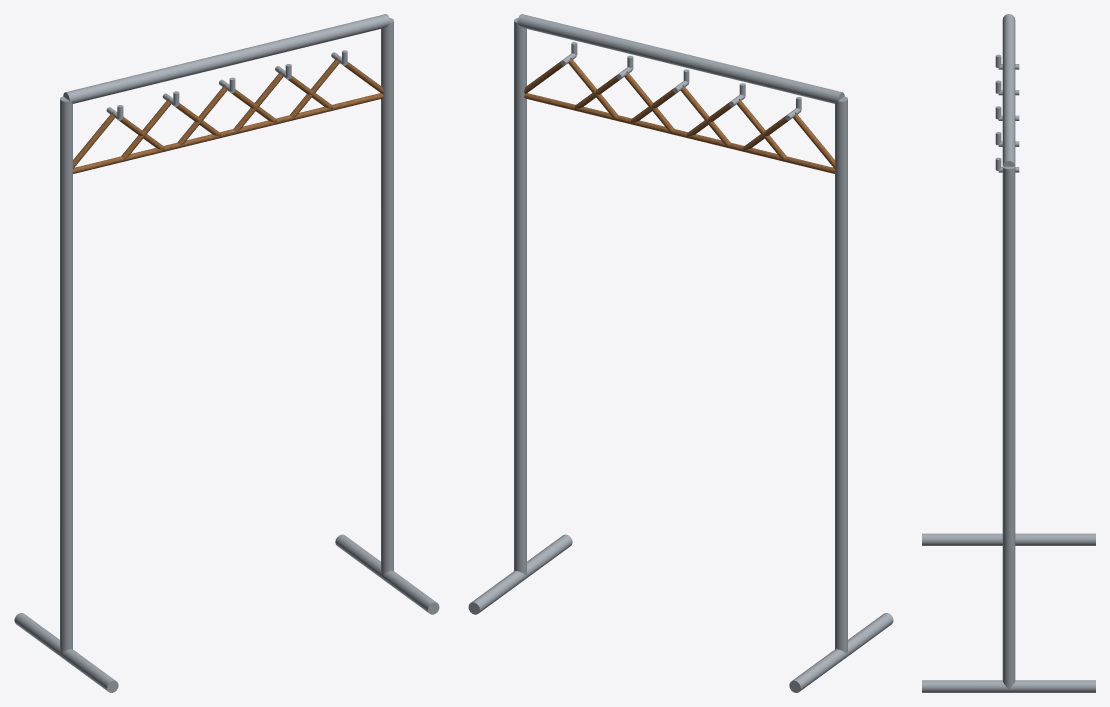
Rendered from Ruhatar_allvany.obj.
3 renders of one model, left to right at view 1: azimuth 30°, elevation 25°; view 2: azimuth 150°, elevation 25°; view 3: azimuth 270°, elevation 25°, orthographic. The views are drawn at different scales.
Bounding box in the file's own units: 1.04 × 1.69 × 0.5.
Materials: 2 (1 with a texture image).
